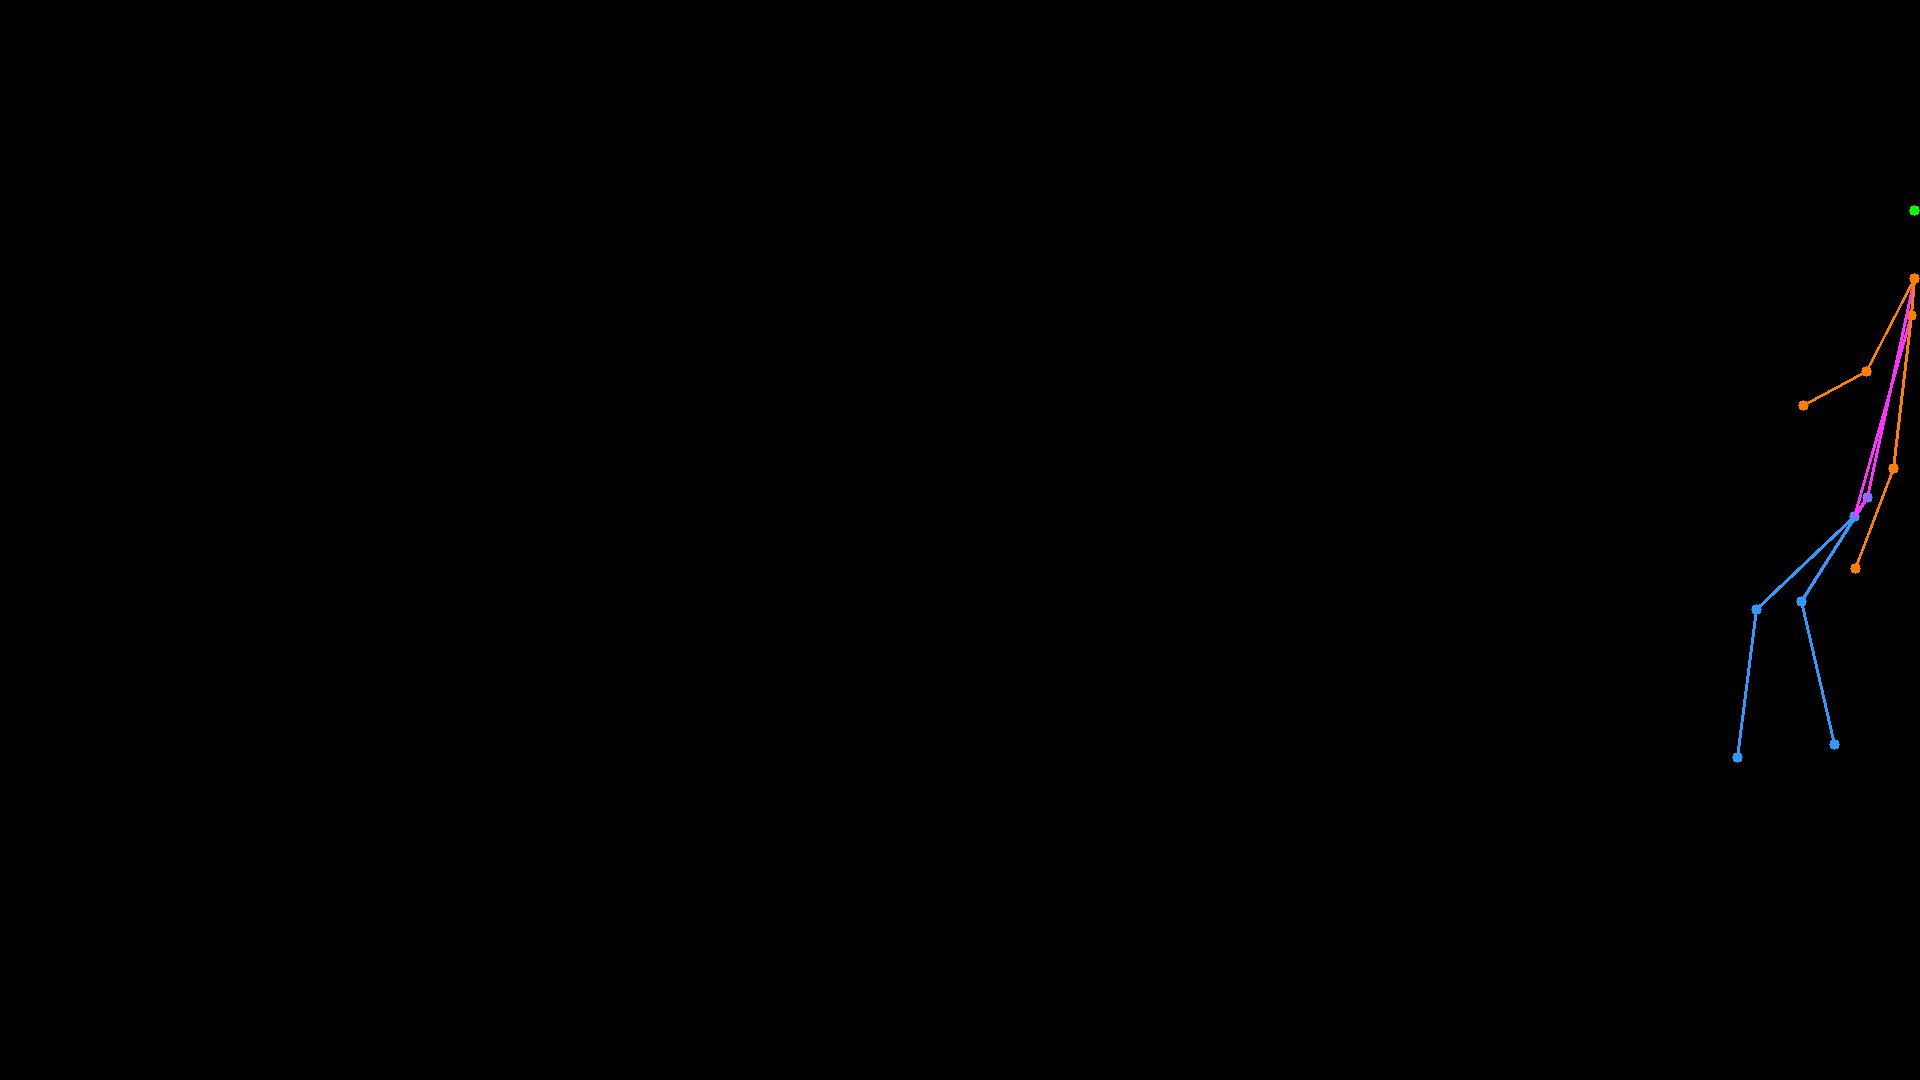normal: (1701, 195, 1920, 782)
